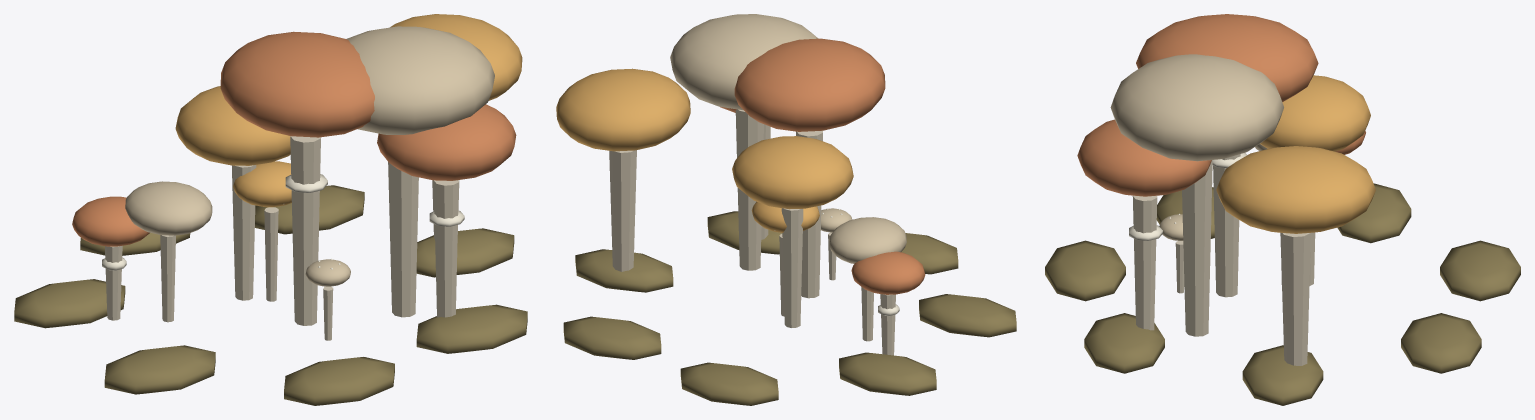
File: mushroom_cluster_autumn.glb
3 renders of one model, left to right at view 1: azimuth 30°, elevation 25°; view 2: azimuth 150°, elevation 25°; view 3: azimuth 270°, elevation 25°, orthographic. The views are drawn at different scales.
Parts seen in each view (by area): view 1: mushroom_cluster_autumn; view 2: mushroom_cluster_autumn; view 3: mushroom_cluster_autumn.
Boxes of the visible parts, box(x1,y1,x2,y2) form: mushroom_cluster_autumn: box(14, 14, 527, 405); mushroom_cluster_autumn: box(556, 14, 1016, 405); mushroom_cluster_autumn: box(1045, 14, 1520, 405).
Bounding box in the file's own units: 1.57 × 0.9307 × 1.46.
